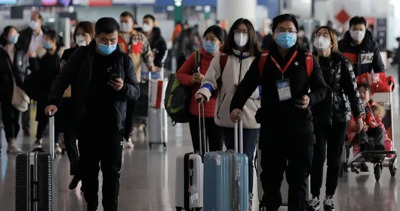with_mask: (276, 26, 298, 50), (313, 31, 332, 52), (97, 37, 118, 55), (202, 35, 218, 54), (234, 28, 249, 48), (75, 32, 89, 47), (351, 27, 366, 41), (119, 18, 131, 34), (9, 31, 19, 45), (42, 38, 53, 50), (29, 18, 39, 30), (142, 20, 152, 32)
without_mask: (358, 89, 370, 105)
